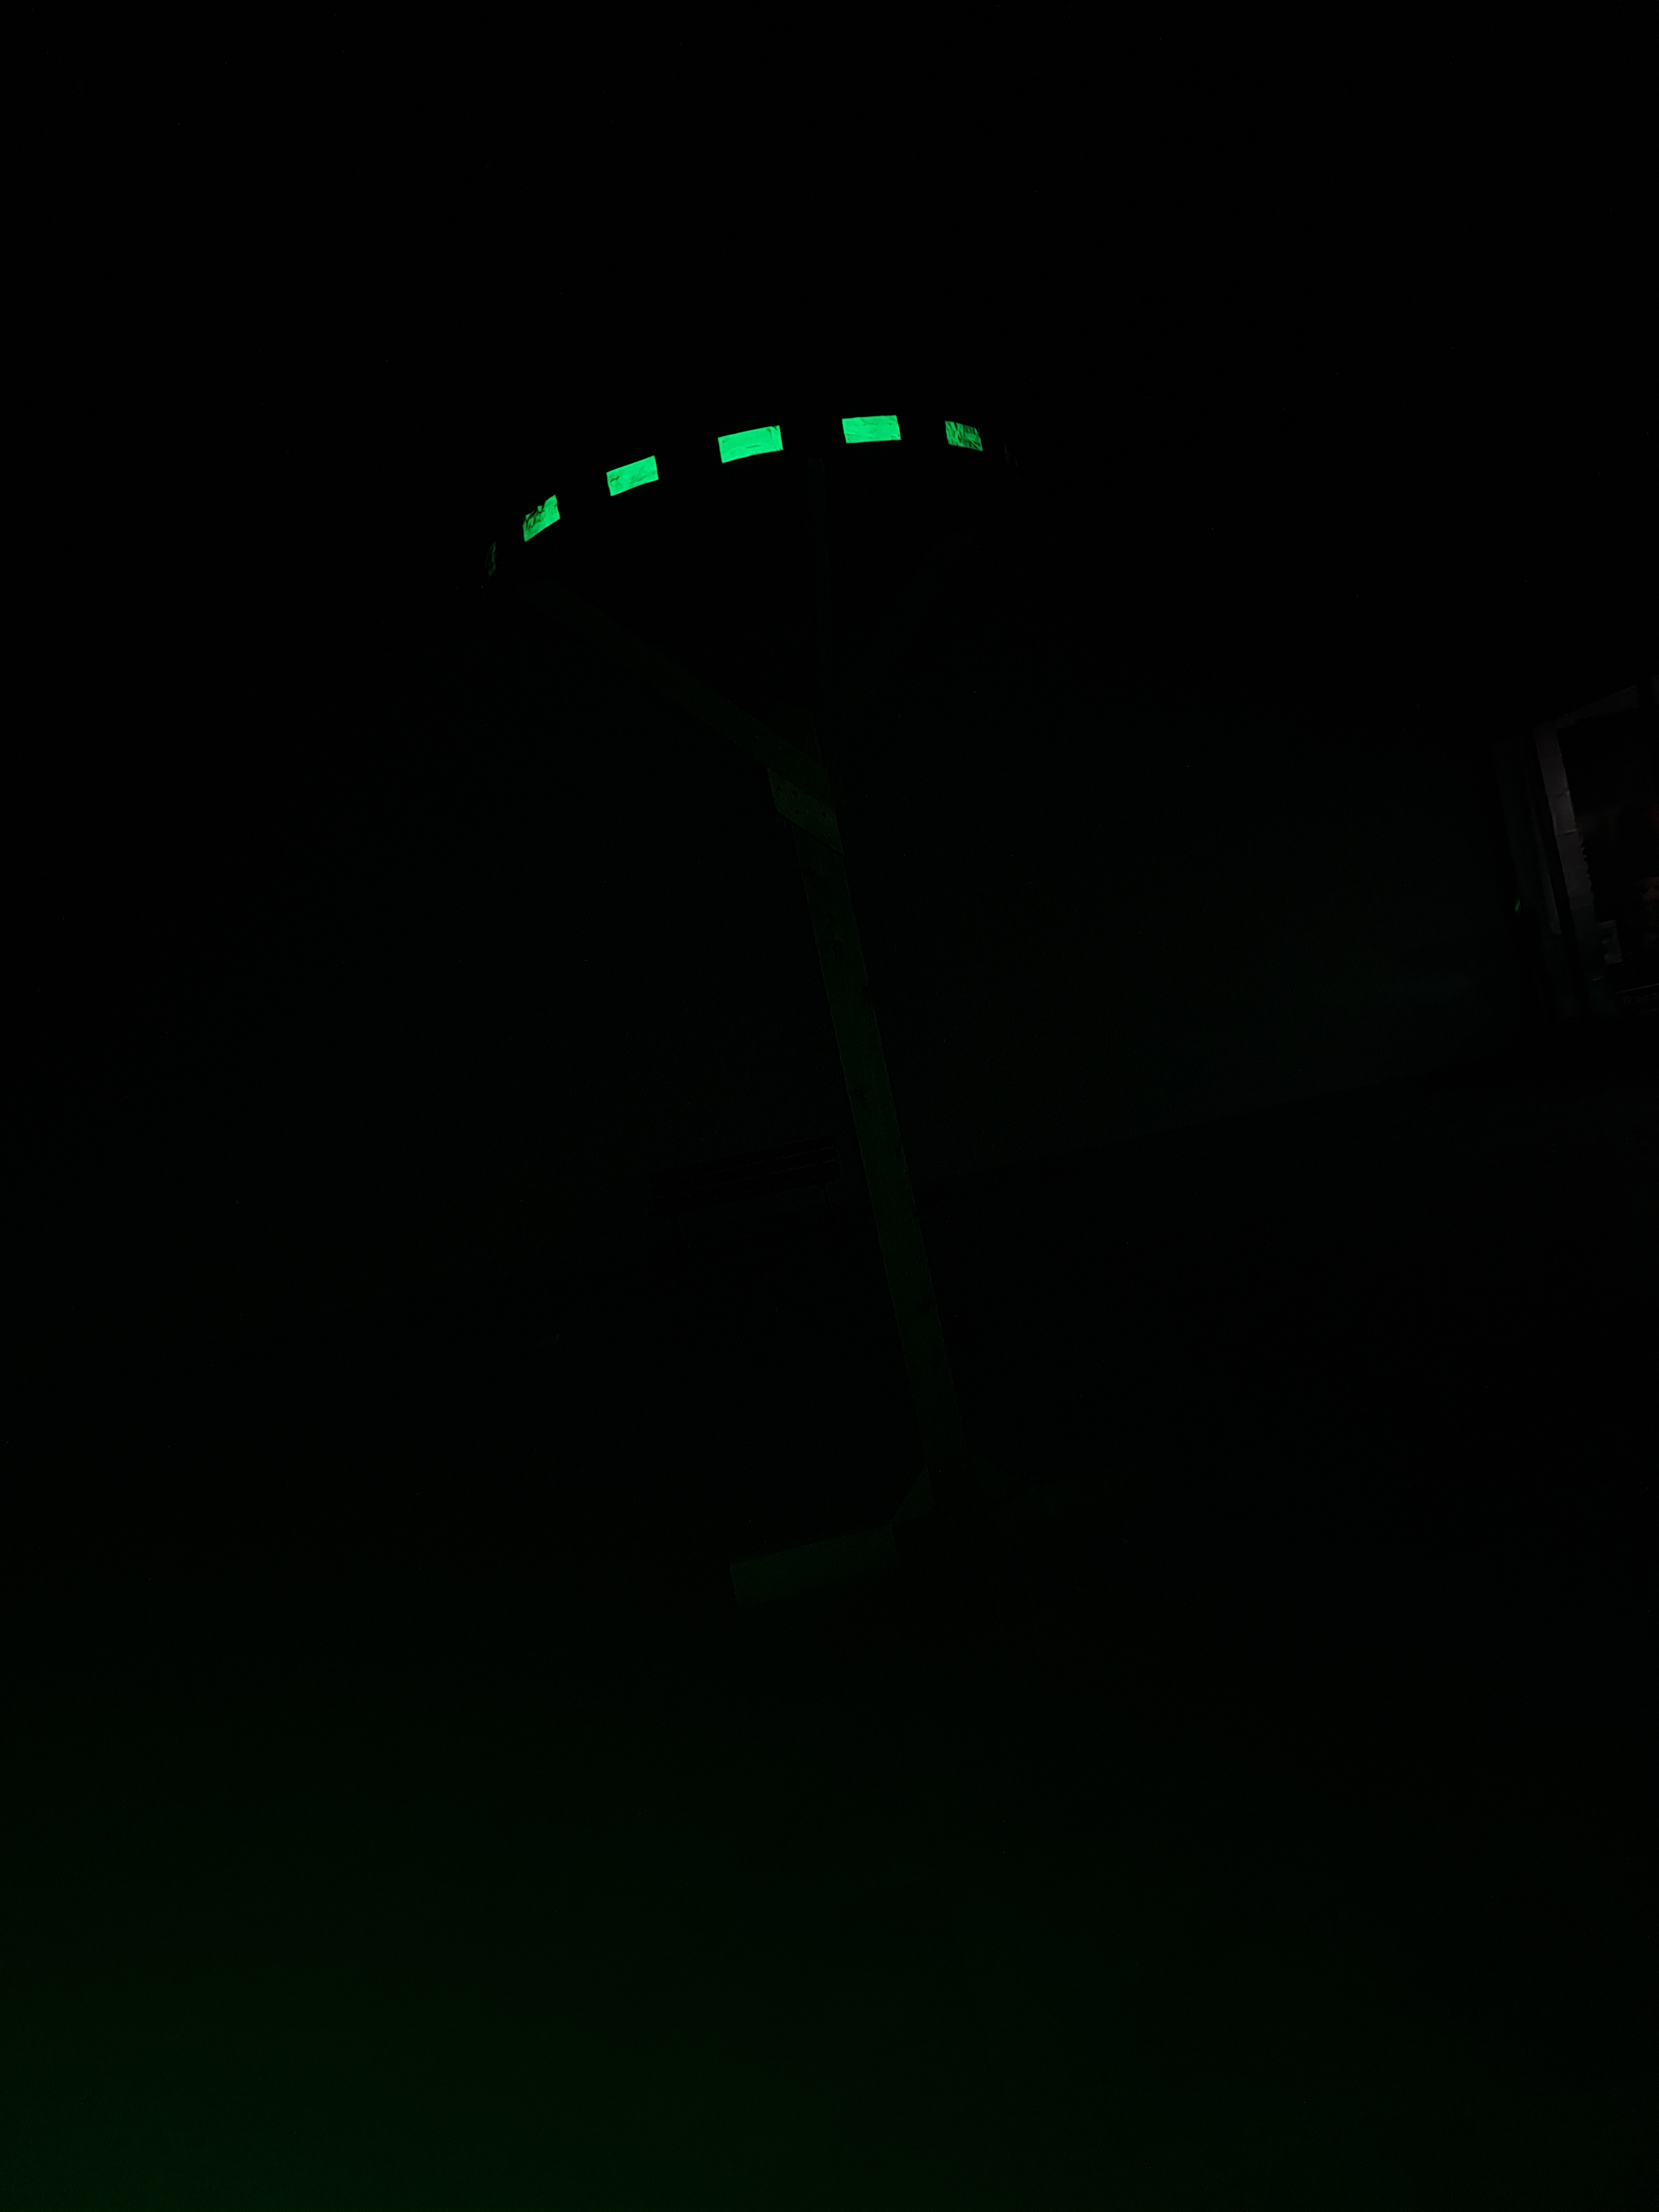hoop: (514, 413, 988, 542)
